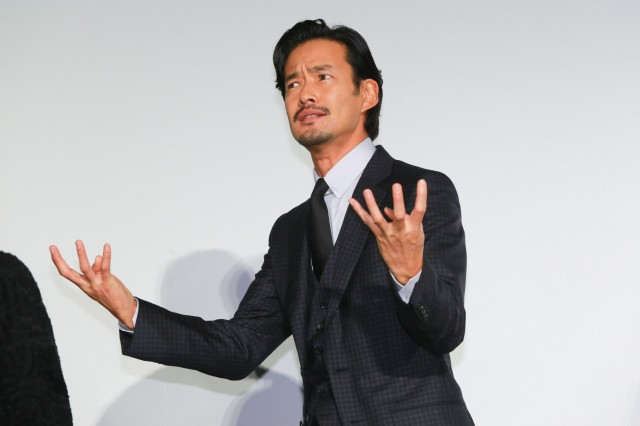face: (271, 37, 380, 148)
hand: (349, 177, 428, 283), (49, 239, 137, 329)
